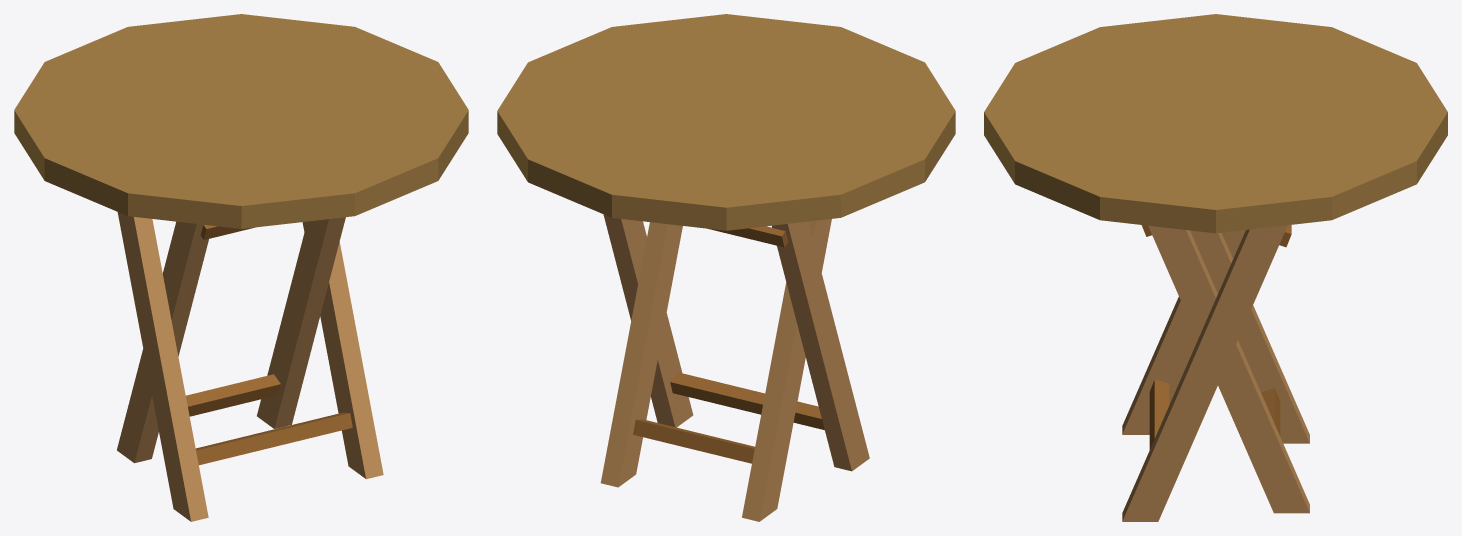
File: M_Sem4_Prop_MiniTisch_FHaufe.fbx
3 views of the same model, side by side, from view 1: azimuth 30°, elevation 25°; view 2: azimuth 150°, elevation 25°; view 3: azimuth 270°, elevation 25° (orthographic). The views are drawn at different scales.
Parts seen in each view (by area): view 1: mini_tisch; view 2: mini_tisch; view 3: mini_tisch.
Part boxes in pixels (left/top/right/bottom): mini_tisch: left=14, top=14, right=468, bottom=521; mini_tisch: left=497, top=14, right=955, bottom=521; mini_tisch: left=984, top=14, right=1447, bottom=521.
Bounding box in the file's own units: 90 × 77.5 × 90.
